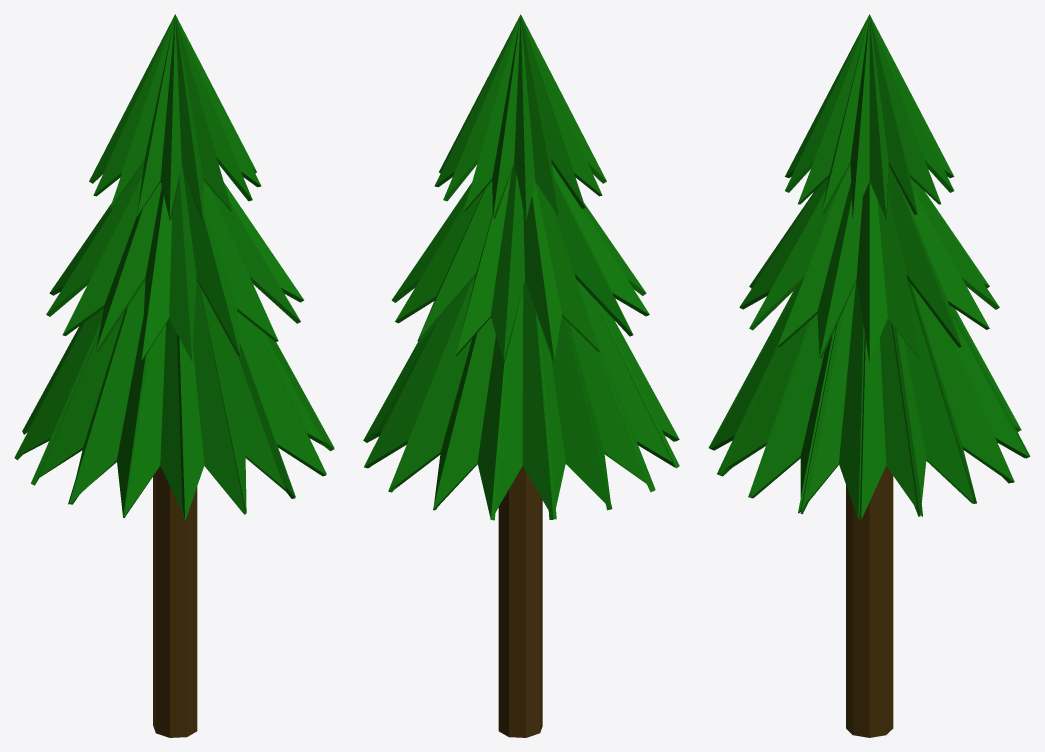
Rendered from FirSource.fbx.
3 views of the same model, side by side, from view 1: azimuth 30°, elevation 25°; view 2: azimuth 150°, elevation 25°; view 3: azimuth 270°, elevation 25° (orthographic).
Parts seen in each view (by area): view 1: Cylinder; view 2: Cylinder; view 3: Cylinder.
Boxes of the visible parts, left/top/right/bottom form: Cylinder: left=14, top=14, right=334, bottom=737; Cylinder: left=363, top=14, right=679, bottom=737; Cylinder: left=708, top=14, right=1030, bottom=737.
Size of the model in its own units: 7.42 by 18.22 by 7.44.
